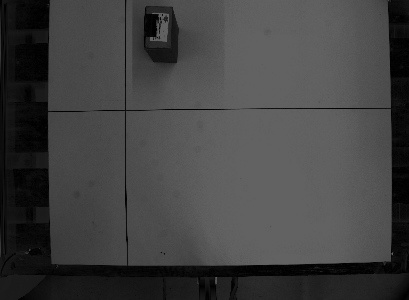b6: (139, 4, 181, 64)
